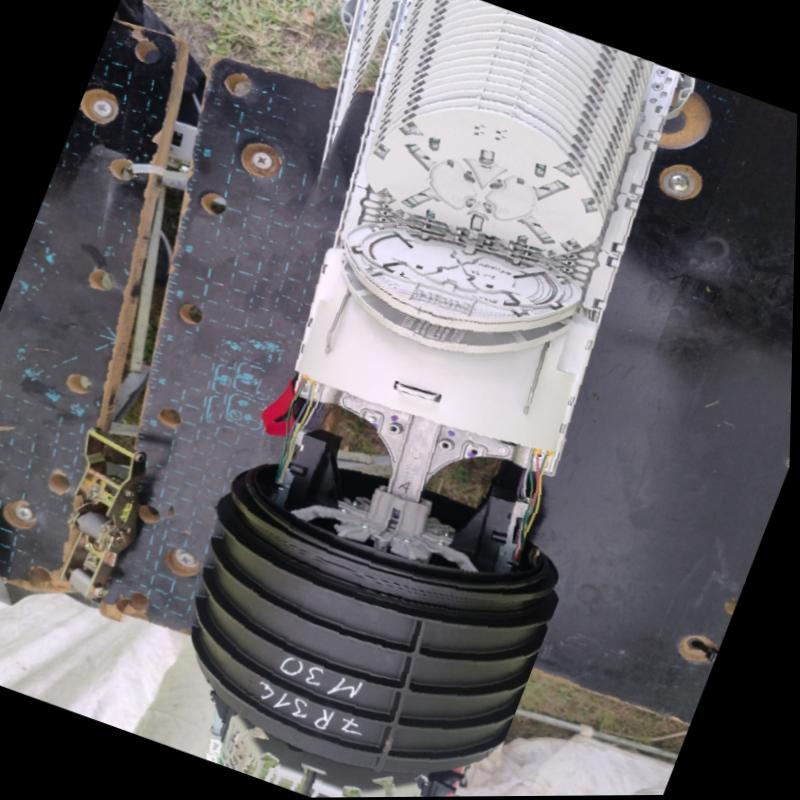NT-Muffen: (180, 0, 674, 798)
